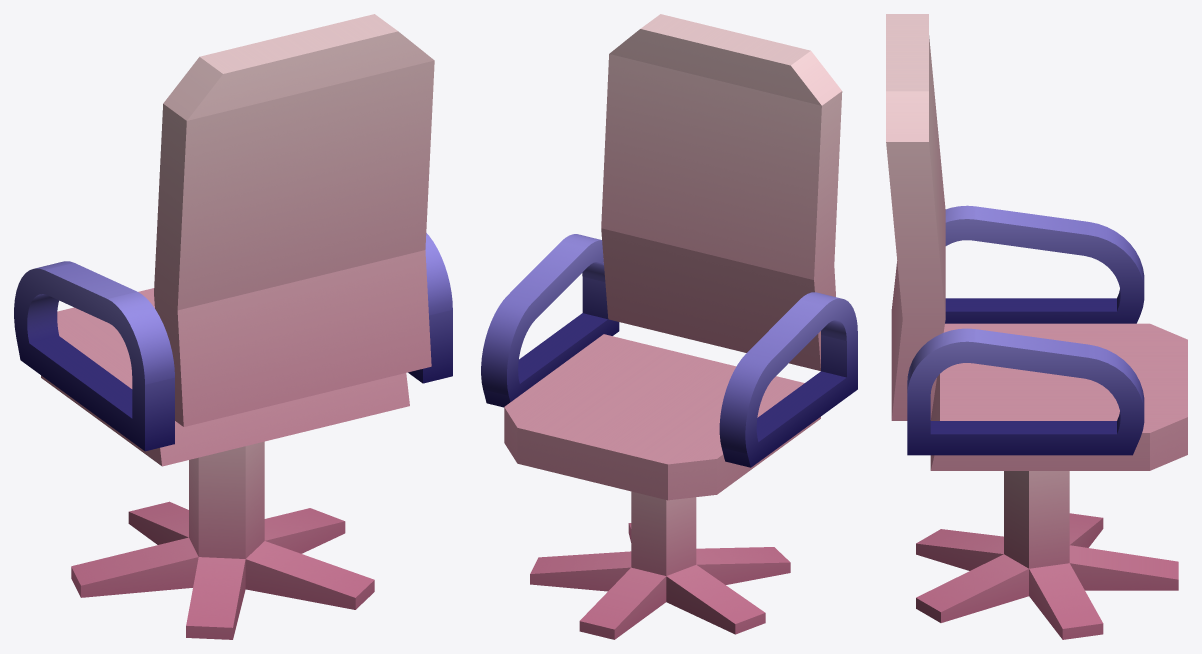
The model's file is deskChair.fbx.
The picture shows the model from 3 angles, left to right: view 1: azimuth 30°, elevation 25°; view 2: azimuth 150°, elevation 25°; view 3: azimuth 270°, elevation 25°; orthographic projection. The views are drawn at different scales.
Visible parts, largest first — view 1: chairDesk1; view 2: chairDesk1; view 3: chairDesk1.
Part boxes in pixels (x1=…): chairDesk1: x1=14, y1=14, x2=452, y2=639; chairDesk1: x1=481, y1=14, x2=857, y2=639; chairDesk1: x1=886, y1=14, x2=1187, y2=639.
Size of the model in its own units: 101 by 182 by 94.35.
